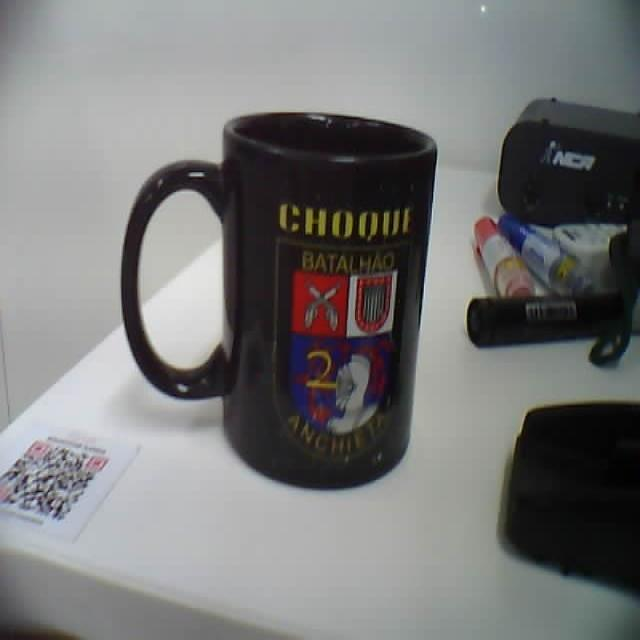caneca: (121, 113, 436, 487)
